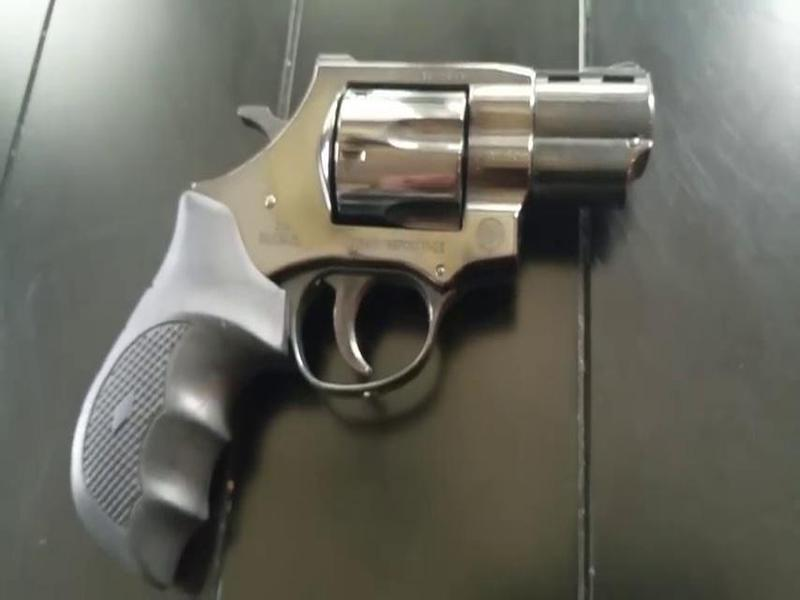Revolver: (155, 24, 666, 408)
